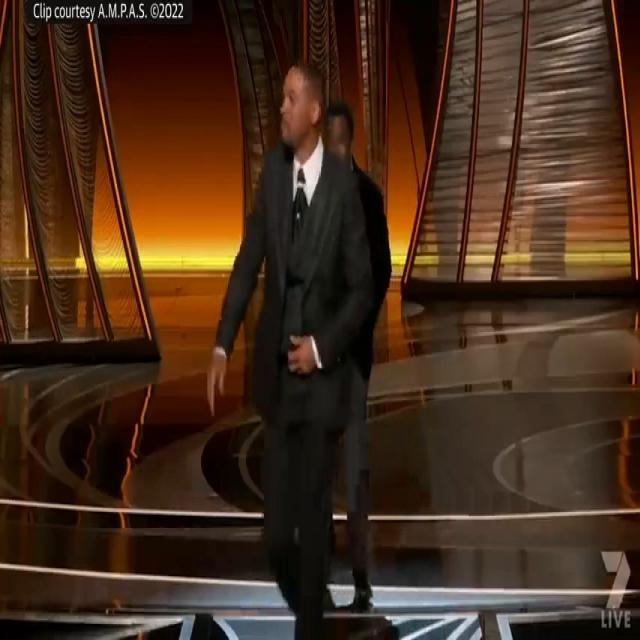non-fight: (206, 46, 392, 640)
